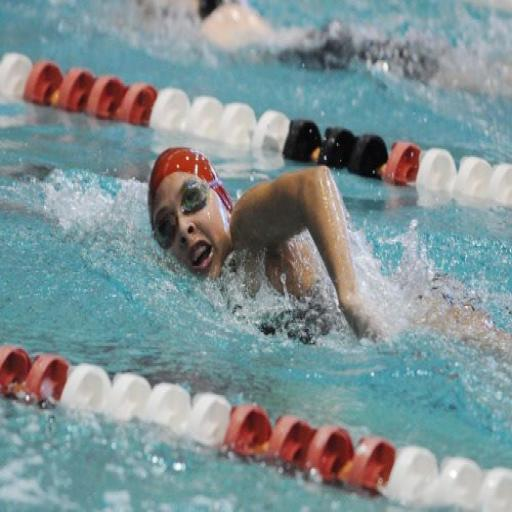swimming: (144, 143, 511, 366)
